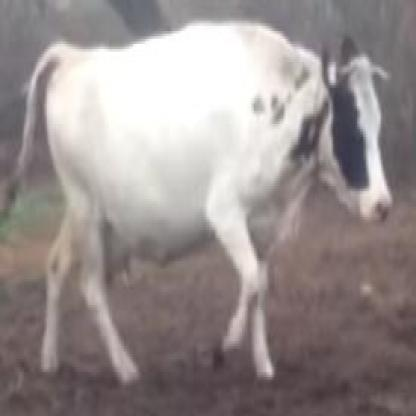cow: (28, 22, 393, 386)
